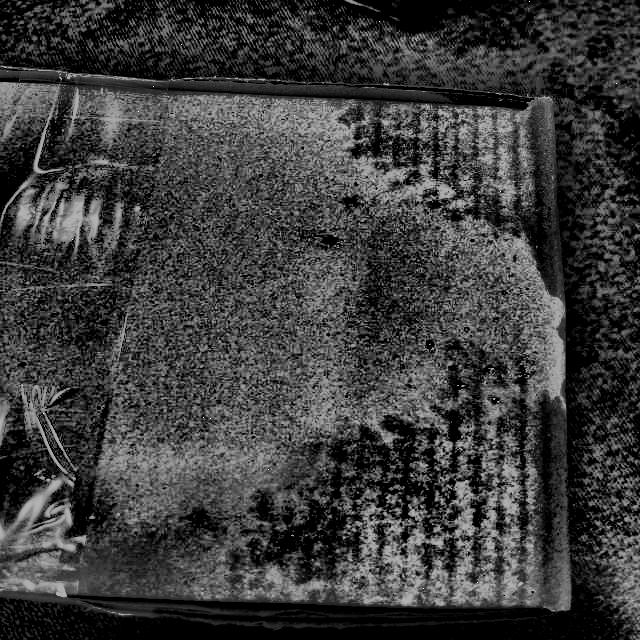box: (0, 60, 578, 633)
wet: (260, 400, 562, 606), (341, 99, 586, 296)
